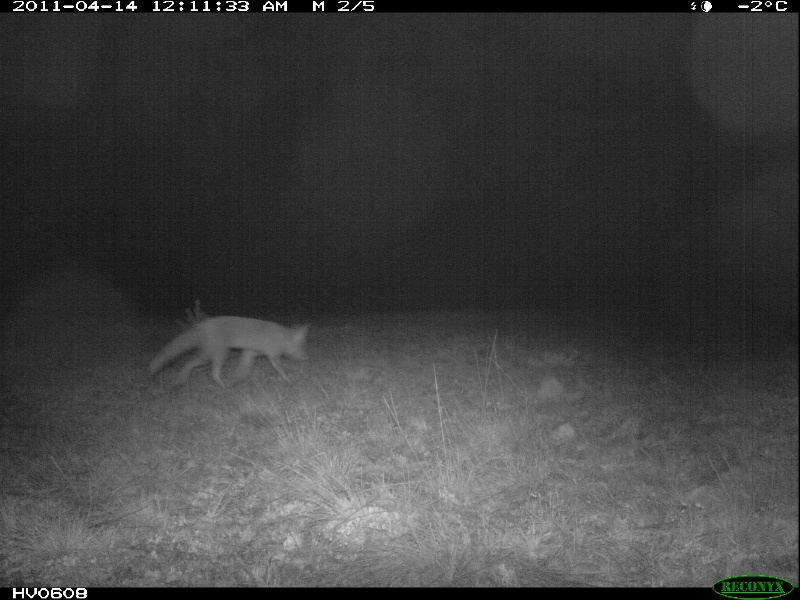fox: (149, 309, 314, 395)
